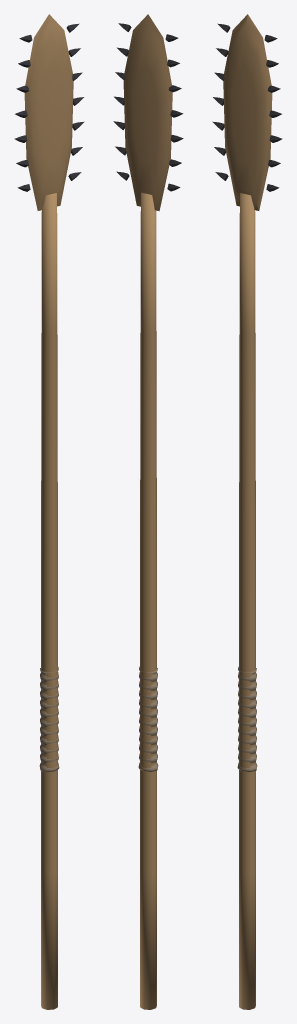
File: tepoztopilli.glb
3 renders of one model, left to right at view 1: azimuth 30°, elevation 25°; view 2: azimuth 150°, elevation 25°; view 3: azimuth 330°, elevation 25°, orthographic.
Parts seen in each view (by area): view 1: tepoztopilli; view 2: tepoztopilli; view 3: tepoztopilli.
Boxes of the visible parts, left/top/right/bottom form: tepoztopilli: left=14, top=14, right=84, bottom=1009; tepoztopilli: left=113, top=14, right=183, bottom=1009; tepoztopilli: left=212, top=14, right=282, bottom=1009.
Bounding box in the file's own units: 0.3733 × 5 × 0.0844.
